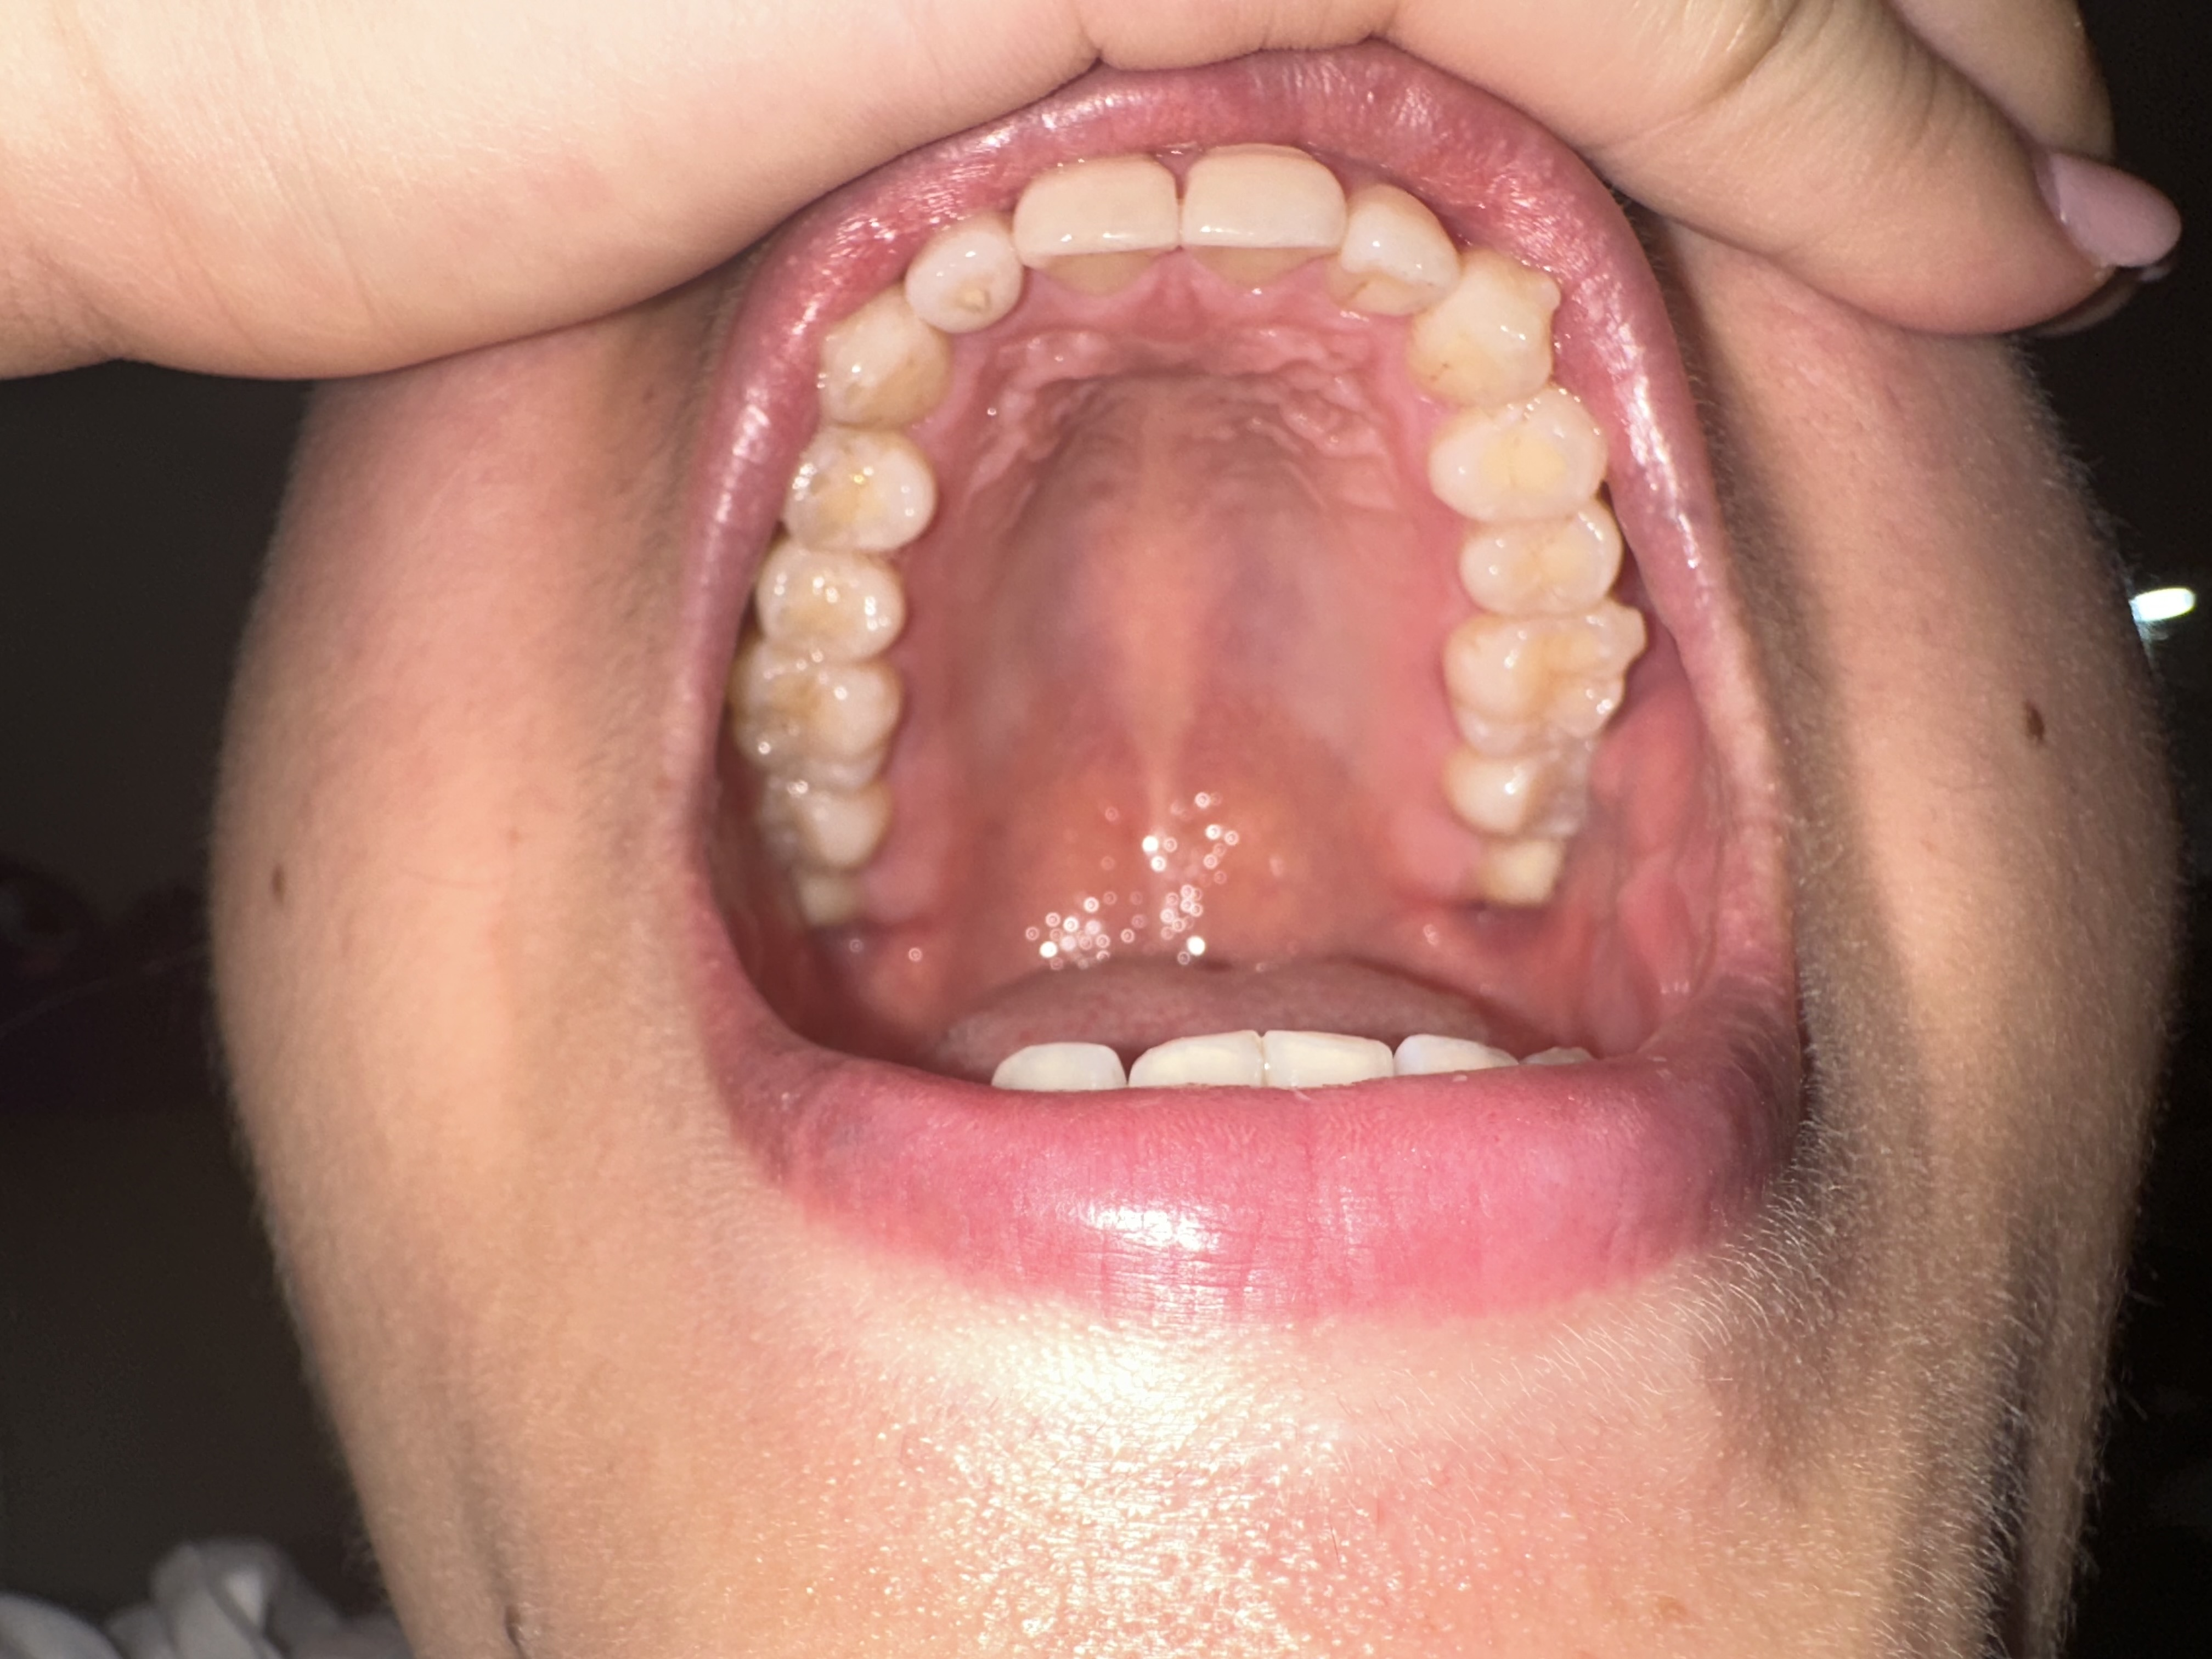teeth: (1442, 612, 1644, 753), (1181, 138, 1339, 293), (1012, 150, 1177, 293), (1428, 396, 1601, 521), (1416, 247, 1559, 397), (742, 660, 899, 786), (1329, 183, 1458, 315), (791, 430, 934, 549), (834, 286, 949, 425), (907, 213, 1031, 336), (1461, 519, 1613, 612), (777, 549, 900, 660)
